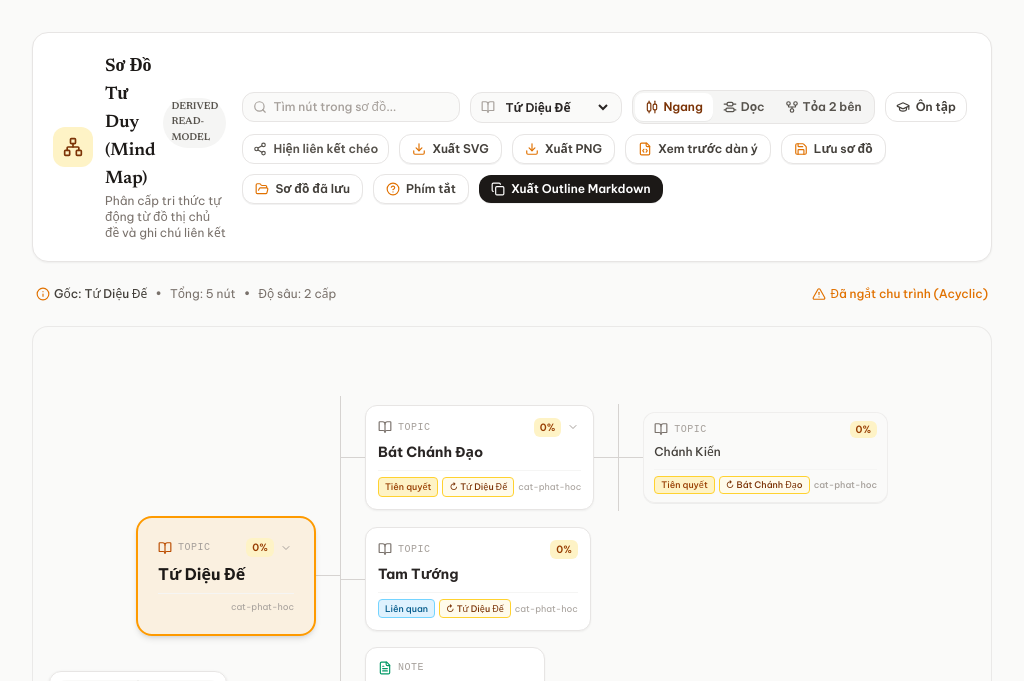
Test: Mind Map Feature S1: In-Canvas Search & Node Highlight Filter › 2. MindMapView In-Canvas Search Toolbar & Highlight Lifecycle › Scenario 2.1: typing search query matches title case-insensitively, highlights matching node, and displays match counter
This screenshot has width=1024, height=681.
Type "bát chánh" into the field with placeholder "Tìm nút trong sơ đồ...".
click(361, 107); type("bát chánh")  # box top-left (273, 99), bottom-right (449, 115)
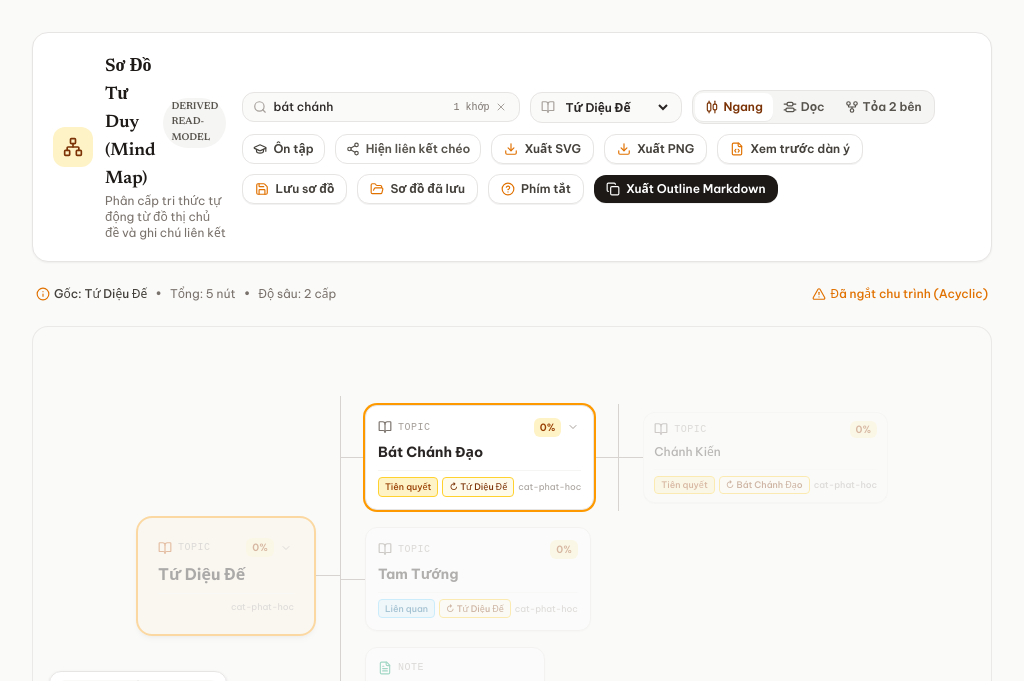
Check: the text "1 khớp" is shown, box top-left (453, 100), bottom-right (489, 114)
